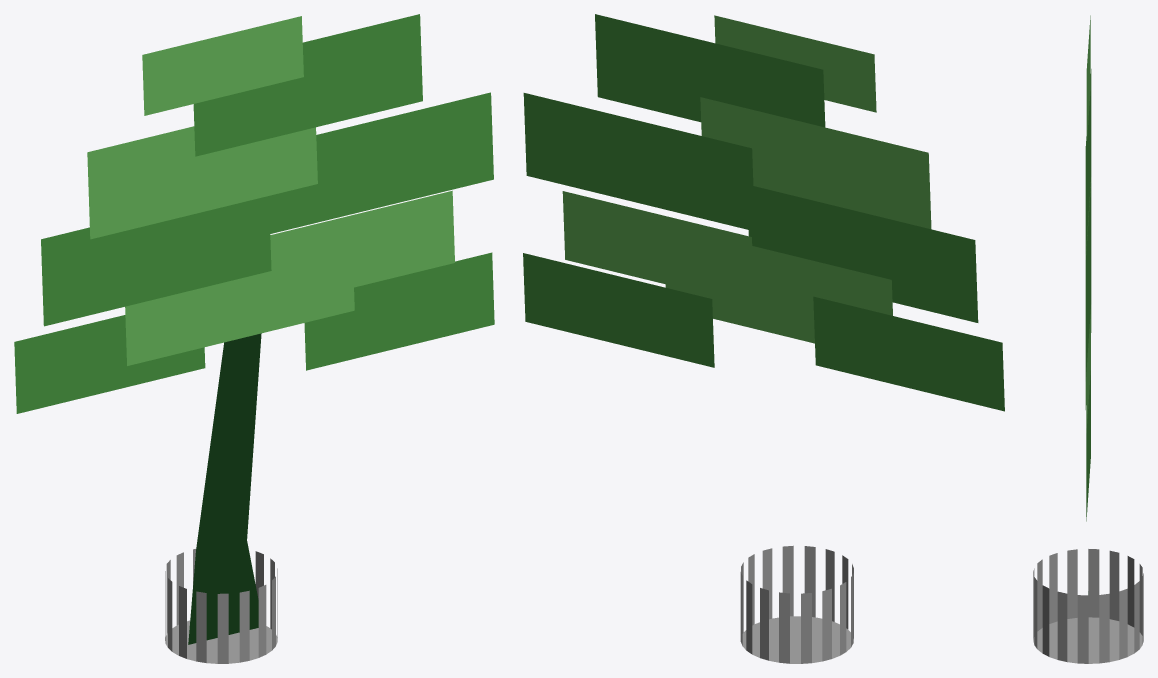
File: trees_mwoie_1.glb
The picture shows the model from 3 angles, left to right: view 1: azimuth 30°, elevation 25°; view 2: azimuth 150°, elevation 25°; view 3: azimuth 270°, elevation 25°; orthographic projection. The views are drawn at different scales.
Visible parts, largest first — view 1: Plane.001; view 2: Plane.001; view 3: Plane.001.
Part boxes in pixels (x1,y1,x2,y2): Plane.001: (14, 14, 494, 663); Plane.001: (523, 14, 1004, 663); Plane.001: (1033, 15, 1143, 663).
Size of the model in its own units: 19.44 by 23.46 by 3.98.
